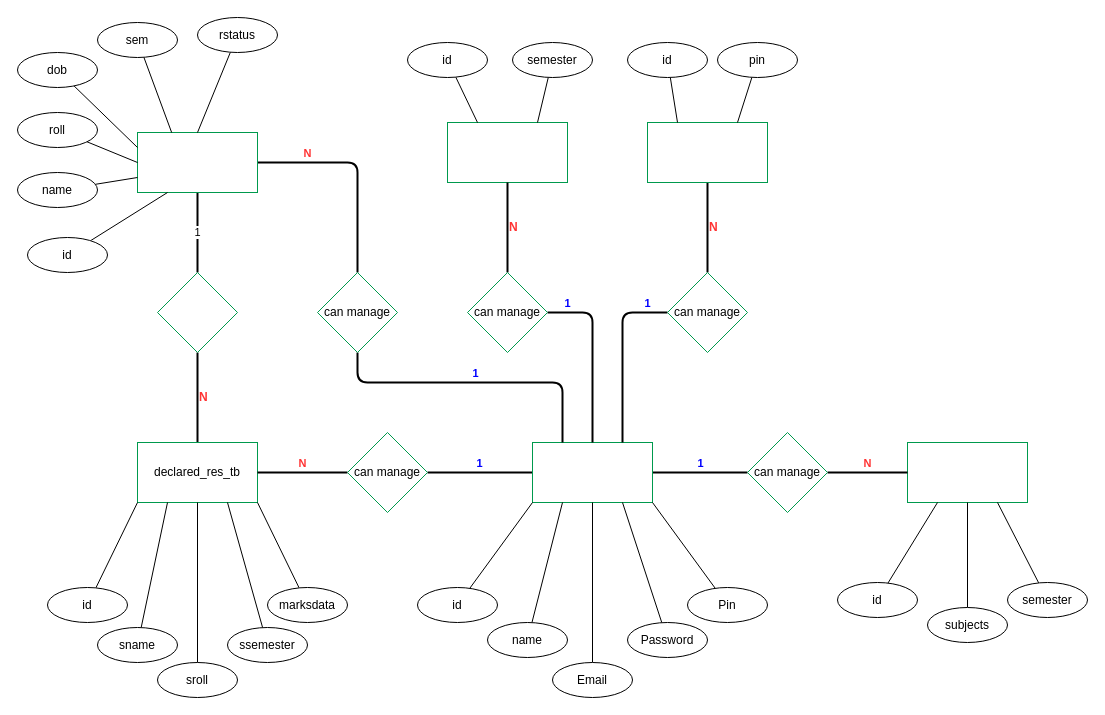
Image size: 1105x715. Some labels were removed from this diagram. Each missing label, with the centre of its shape:
"admin_tb" belongs at point 592,472.
"adminpin_tb" belongs at point 707,152.
"can view" belongs at point 197,312.
"semester_tb" belongs at point 507,152.
"student_tb" belongs at point 197,162.
"subjects_tb" belongs at point 967,472.
